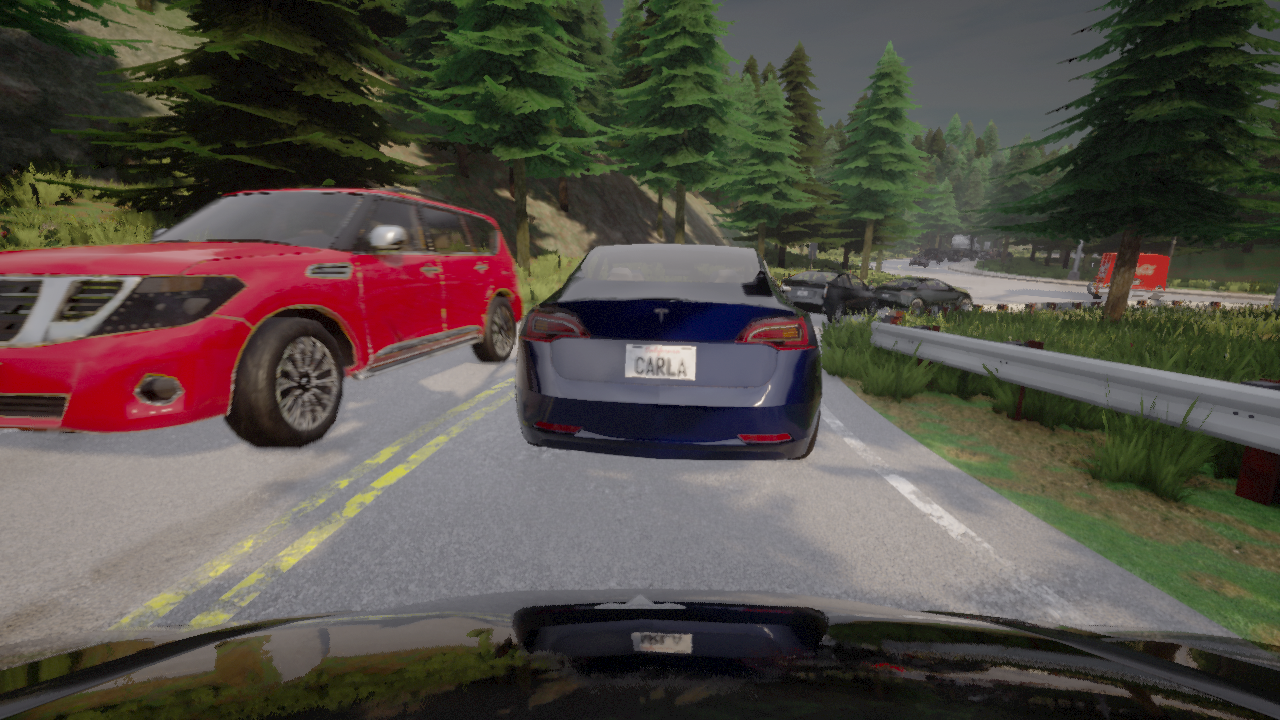cyclist: (0, 588, 1279, 719), (0, 187, 522, 449), (515, 243, 821, 460), (780, 271, 877, 323), (1086, 252, 1170, 300), (873, 277, 972, 309), (942, 234, 982, 260), (771, 277, 792, 304), (978, 247, 1013, 258), (925, 247, 944, 263), (908, 252, 929, 266)
